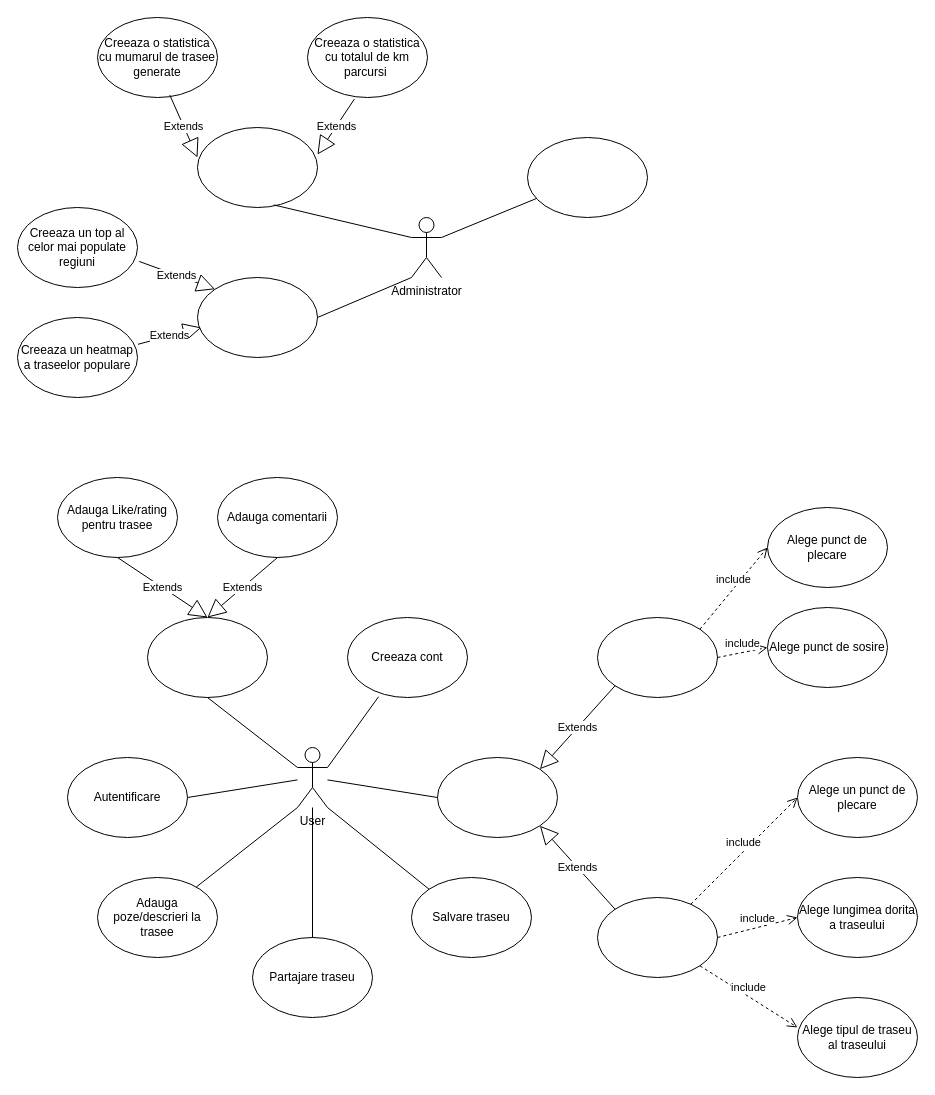
The diagram is 935 pixels wide and 1095 high, and some of its shapes have lost their labels. The centre of each missing label's shape, as x and y in pixels:
Creeaza dashboarduri pe baza utilizatorilor si a traseelor: the point at 257,317
Genereaza traseu: the point at 497,797
Gereneaza un traseu aleatoriu: the point at 657,937
Gereneaza un traseu personalizat: the point at 657,657
Interactioneaza cu alti useri: the point at 207,657
Scrie statisticile fiecarui utilizator: the point at 257,167
Sterge conturi: the point at 587,177
